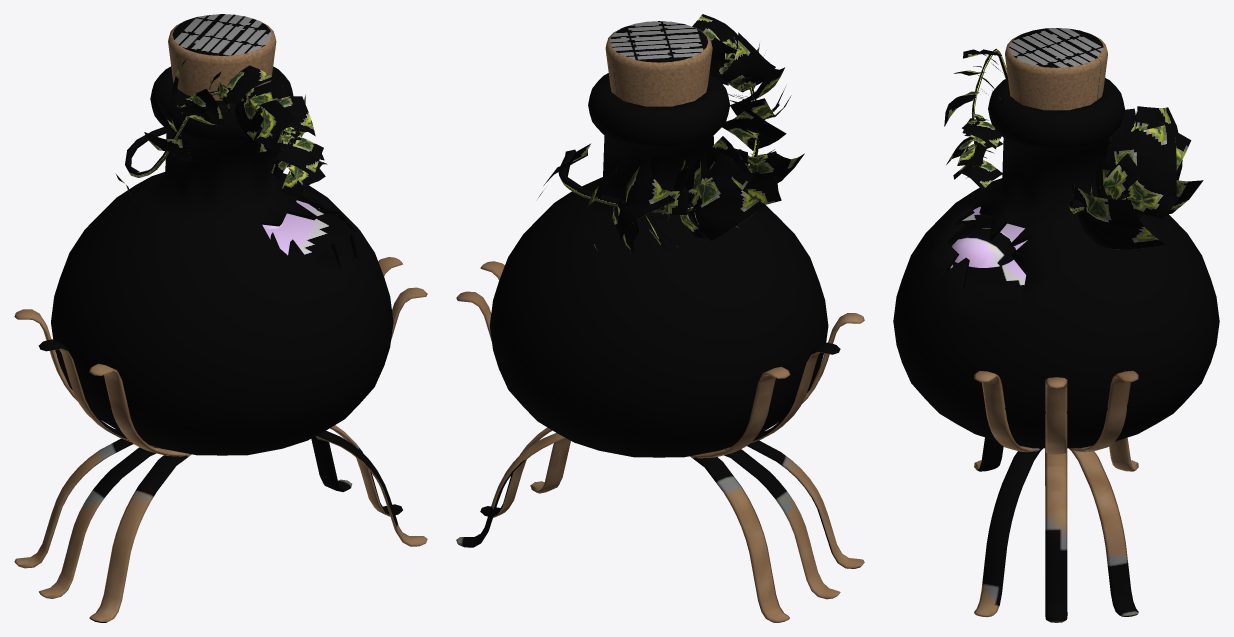
File: garrafa-hera.glb
3 views of the same model, side by side, from view 1: azimuth 30°, elevation 25°; view 2: azimuth 150°, elevation 25°; view 3: azimuth 270°, elevation 25° (orthographic). The views are drawn at different scales.
Parts seen in each view (by area): view 1: Bottle, Bubbles, Plant.002; view 2: Bottle, Bubbles, Plant.002; view 3: Bottle, Bubbles, Plant.002.
Boxes of the visible parts, x1,y1,x2,y2 form: Bottle: (51, 66, 393, 455); Bubbles: (14, 14, 427, 622); Plant.002: (116, 59, 327, 206); Bottle: (489, 73, 828, 457); Bubbles: (456, 21, 864, 622); Plant.002: (538, 14, 804, 254); Bottle: (893, 78, 1219, 448); Bubbles: (948, 28, 1138, 622); Plant.002: (944, 48, 1203, 251).
Bounding box in the file's own units: 0.7158 × 0.9978 × 0.5882.
Materials: 3 (3 with a texture image).
